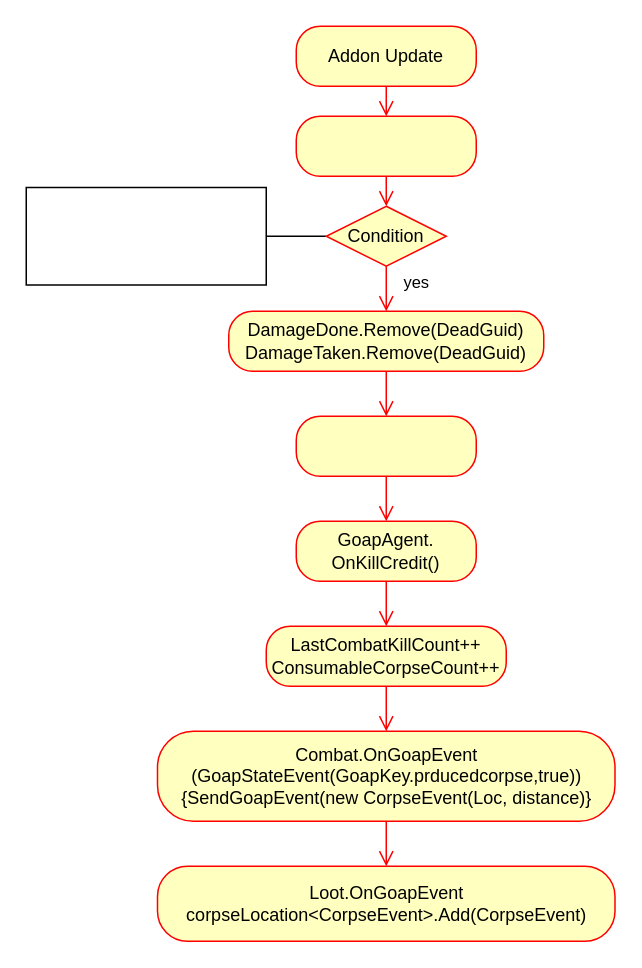
The diagram is 642 pixels wide and 968 high, and some of its shapes have lost their labels. The centre of each missing label's shape, as x and y in pixels:
CombatLog Update: point 385,145
DeadGuid Updated(reader) && DeadGuid.Value > 0 【新目标被击杀】: point 145,235
KillCredit.Invoke(): point 385,445
